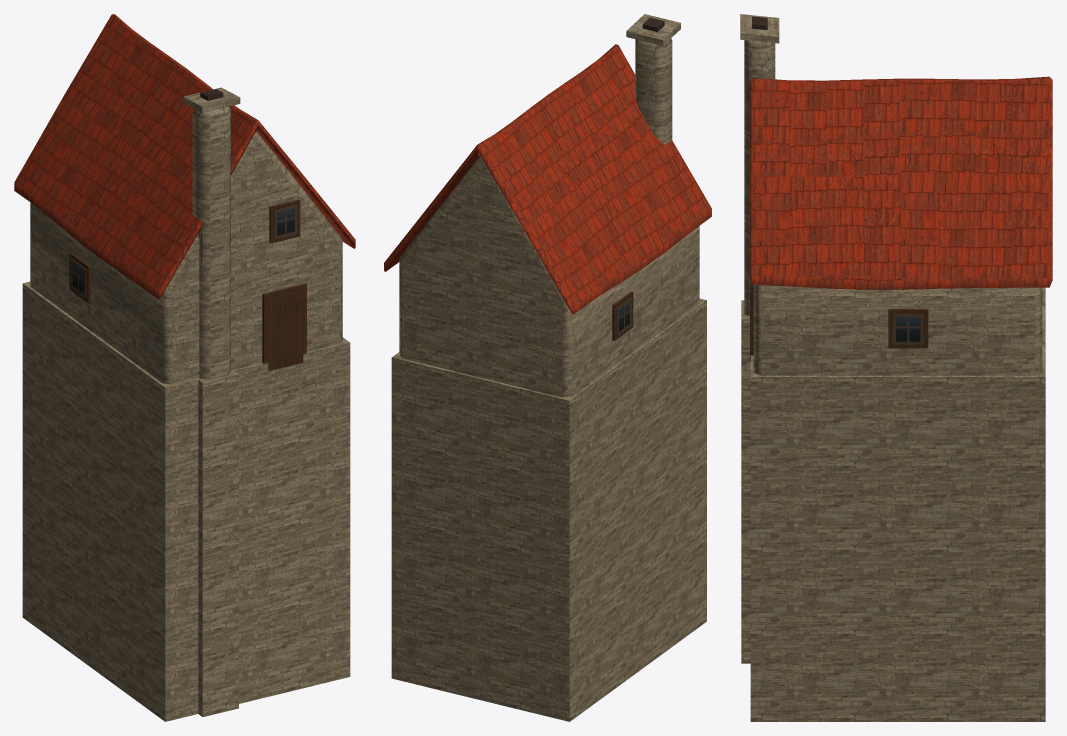
The model's file is cottage_c.glb.
The picture shows the model from 3 angles, left to right: view 1: azimuth 30°, elevation 25°; view 2: azimuth 150°, elevation 25°; view 3: azimuth 270°, elevation 25°; orthographic projection. The views are drawn at different scales.
Parts seen in each view (by area): view 1: cottage_c_export; view 2: cottage_c_export; view 3: cottage_c_export.
Boxes of the visible parts, bbox=[...] form: cottage_c_export: bbox=[14, 14, 355, 721]; cottage_c_export: bbox=[384, 14, 711, 721]; cottage_c_export: bbox=[740, 14, 1052, 721].
Bounding box in the file's own units: 12.04 × 35.83 × 16.
4 materials, 4 textured.
